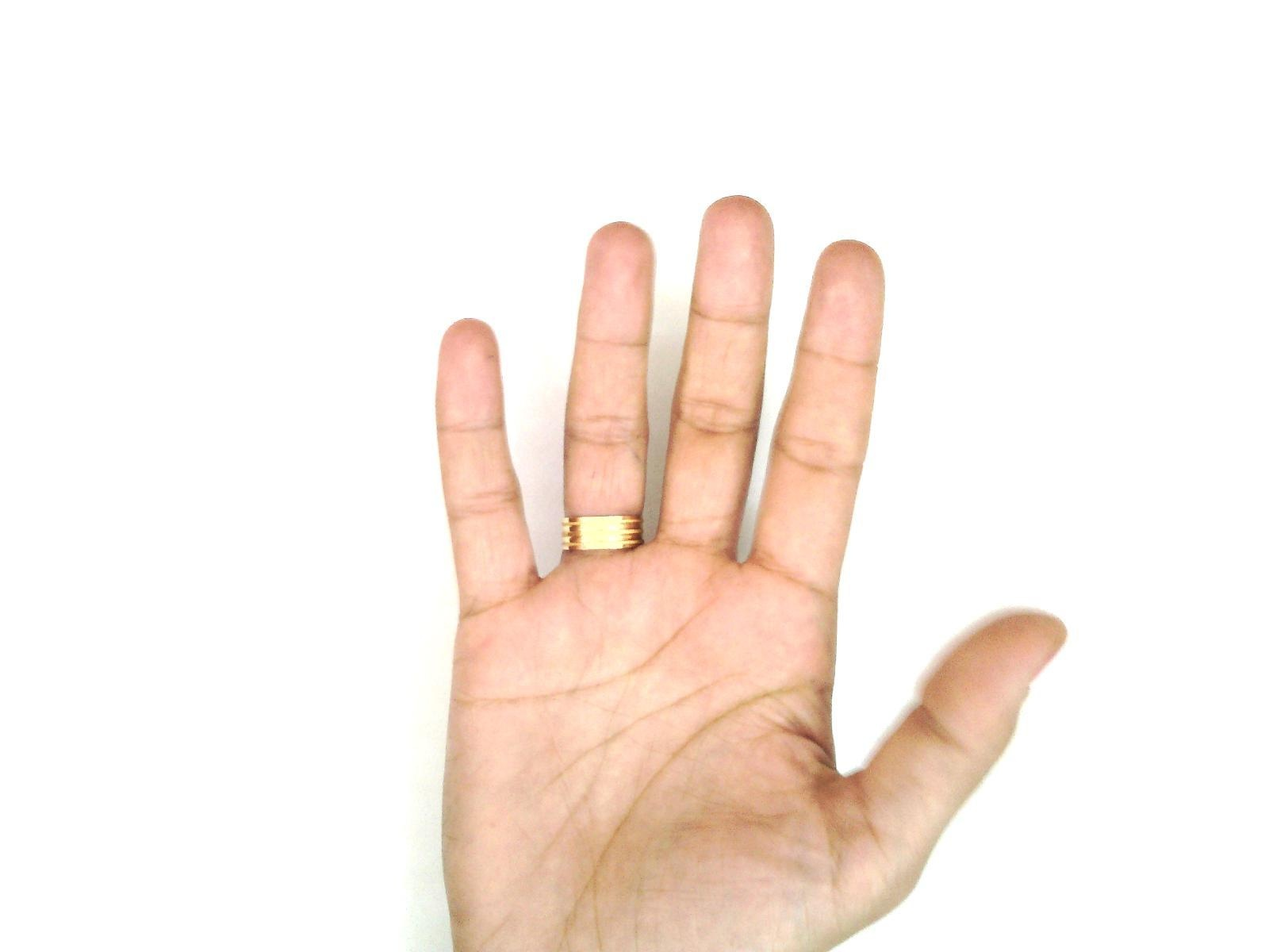open_palm: (429, 194, 1069, 952)
